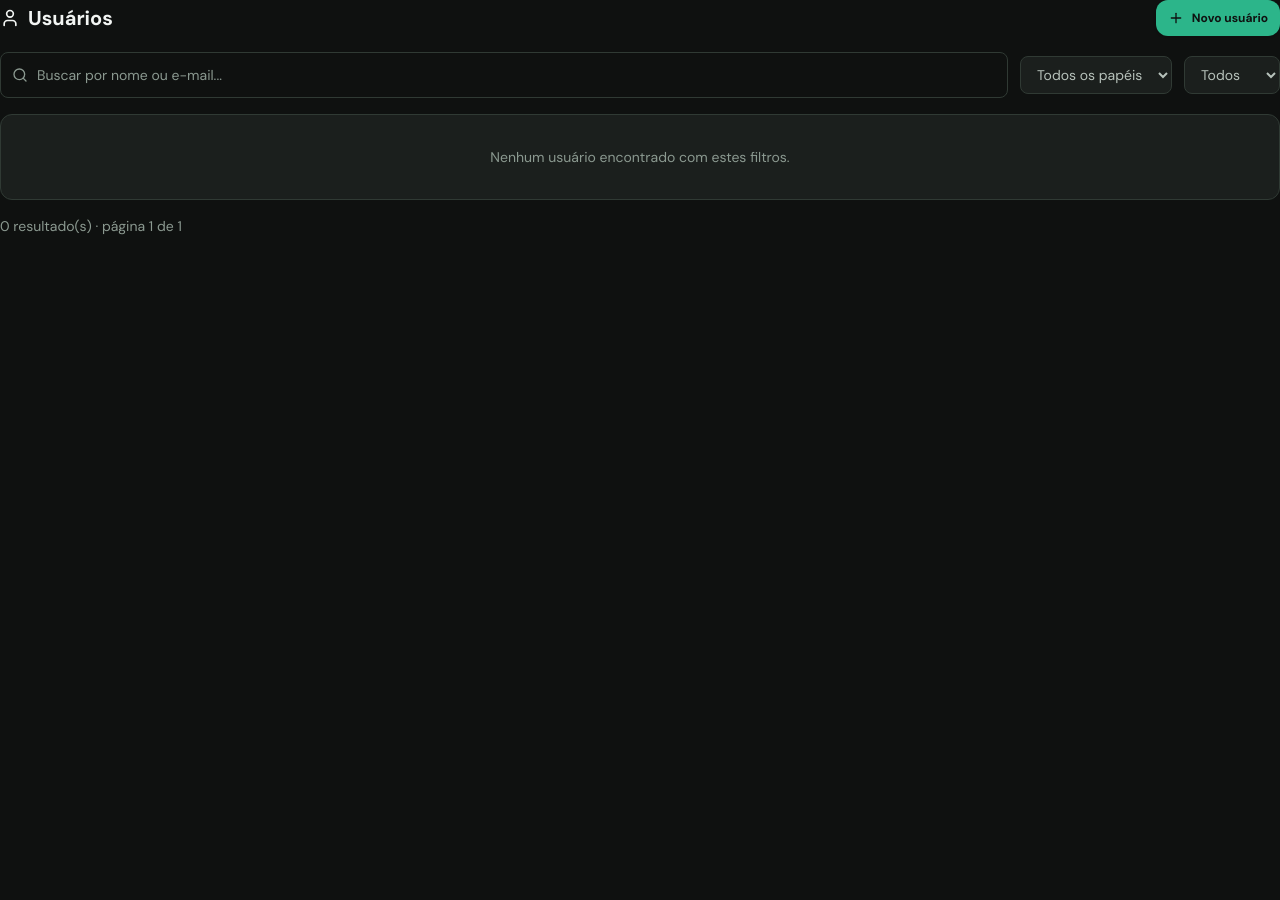
Scenario: UsersPage › abre o diálogo de criação e envia o formulário
Expected: the text "Nenhum usuário encontrado com estes filtros." is shown, left=490, top=148, right=790, bottom=166
Step 1. Click the button "Novo usuário" → (1218, 18), box left=1156, top=0, right=1279, bottom=36
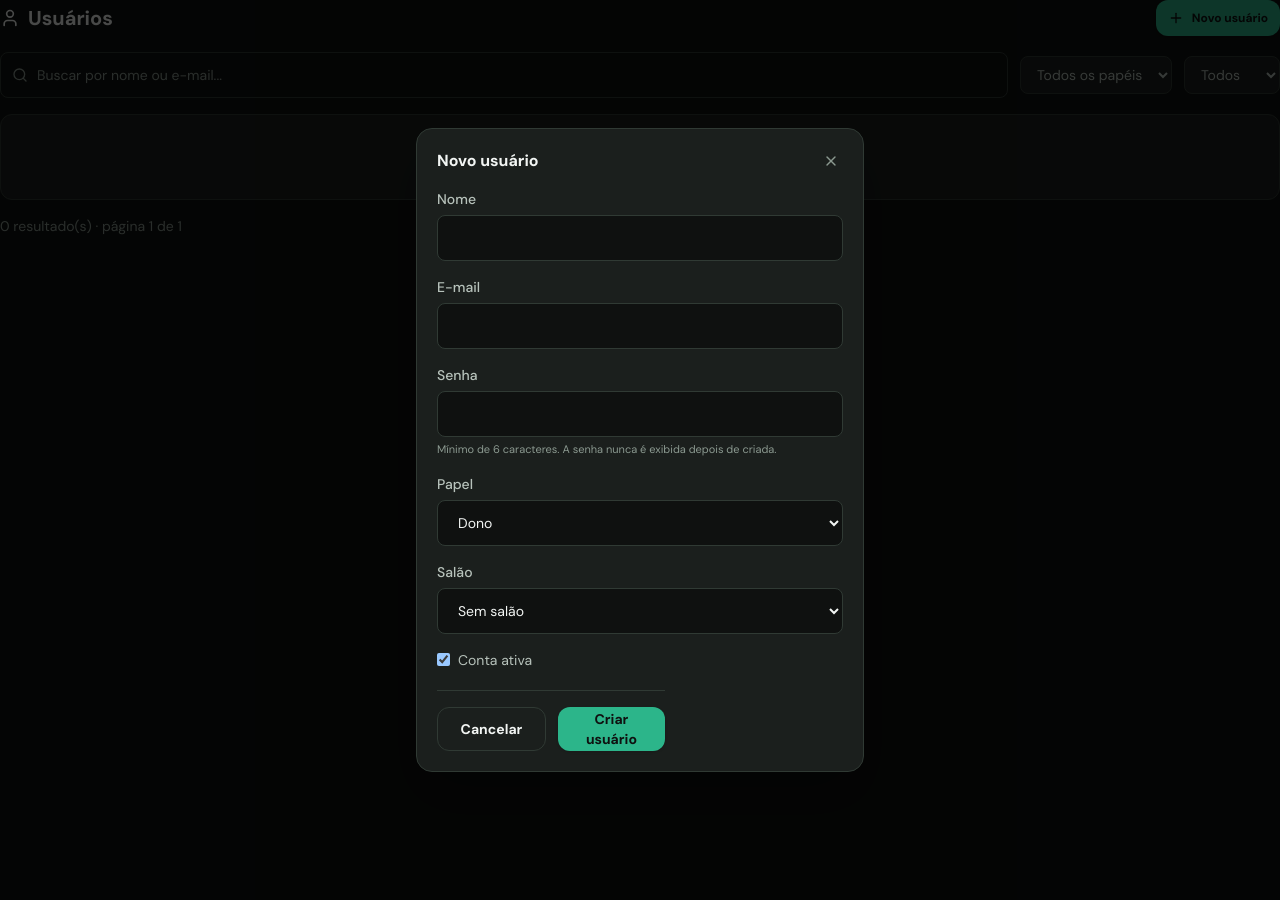
Expected: the heading "Novo usuário" is shown, left=437, top=149, right=538, bottom=173
Step 2. Submit the form with id "user-form", box left=437, top=189, right=843, bottom=670
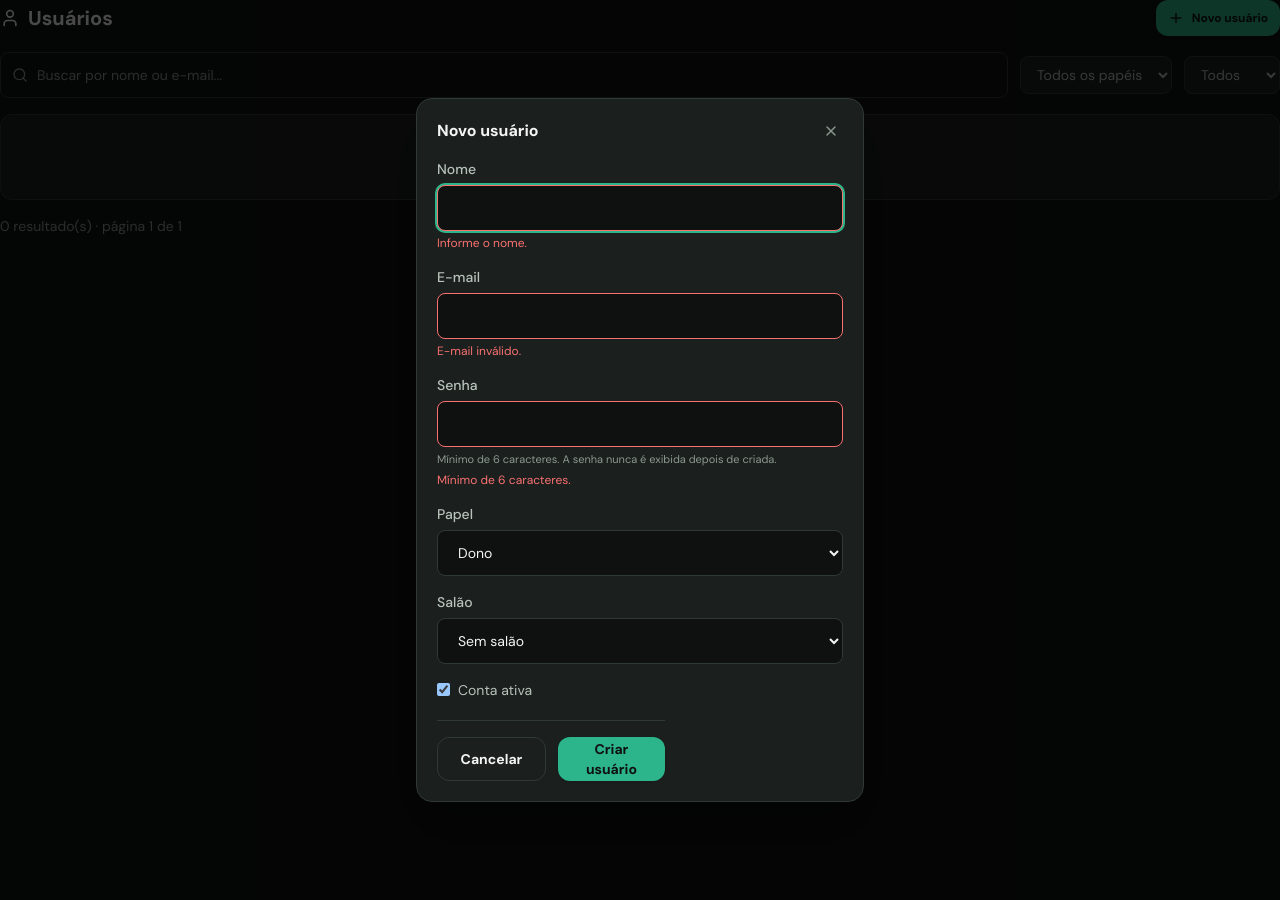
Expected: the text "Informe o nome." is shown, left=437, top=235, right=527, bottom=251
